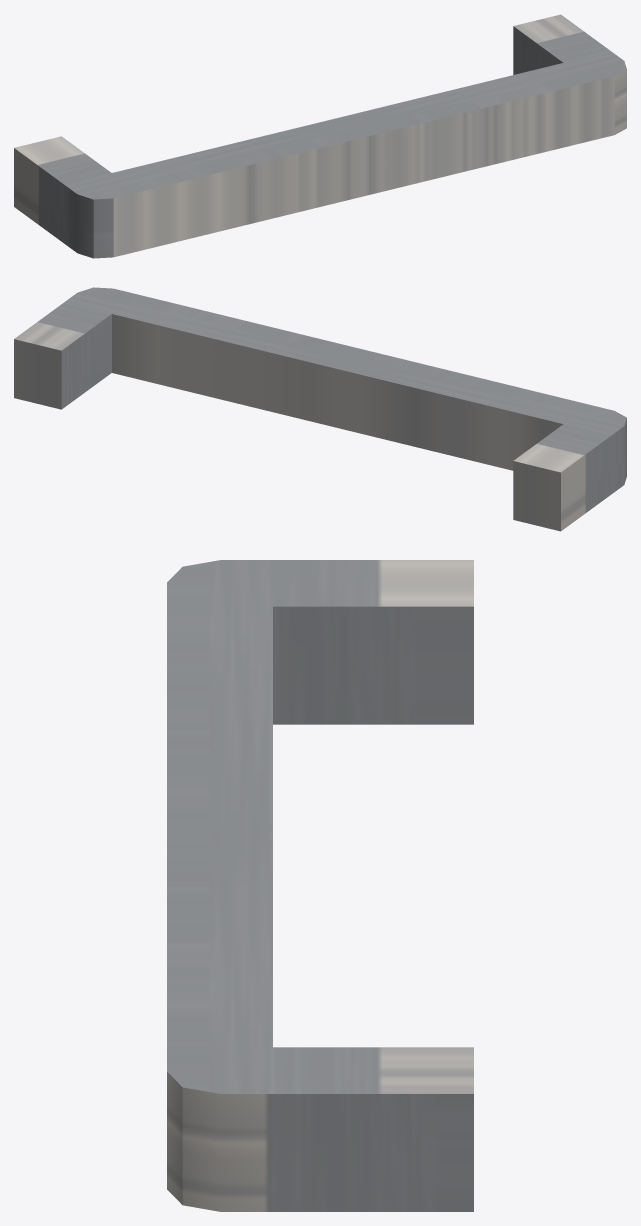
The model's file is drawer handle.fbx.
3 views of the same model, one above another, from view 1: azimuth 30°, elevation 25°; view 2: azimuth 150°, elevation 25°; view 3: azimuth 270°, elevation 25° (orthographic). The views are drawn at different scales.
Parts seen in each view (by area): view 1: drawer_handle1; view 2: drawer_handle1; view 3: drawer_handle1.
Boxes of the visible parts, box(x1,y1,x2,y2) form: drawer_handle1: box(14, 14, 626, 258); drawer_handle1: box(14, 287, 626, 531); drawer_handle1: box(167, 560, 473, 1211).
Size of the model in its own units: 31.87 by 3.28 by 7.74.
